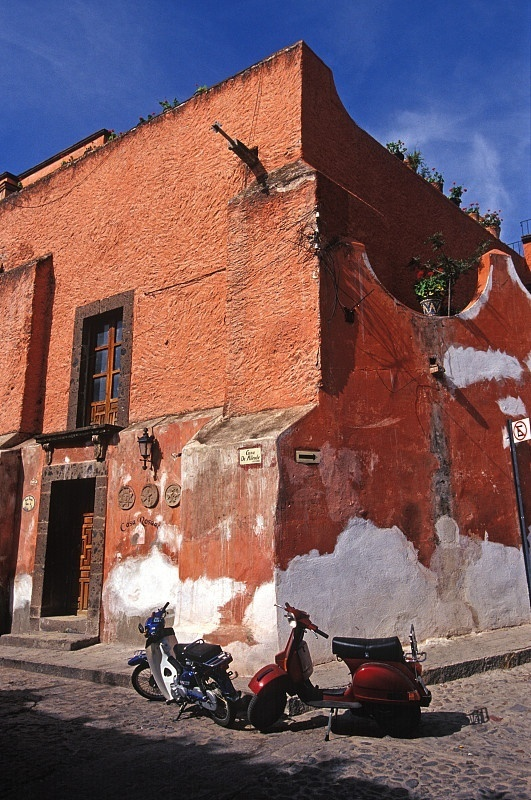non-vehicle: (241, 598, 449, 731), (131, 609, 247, 724)
